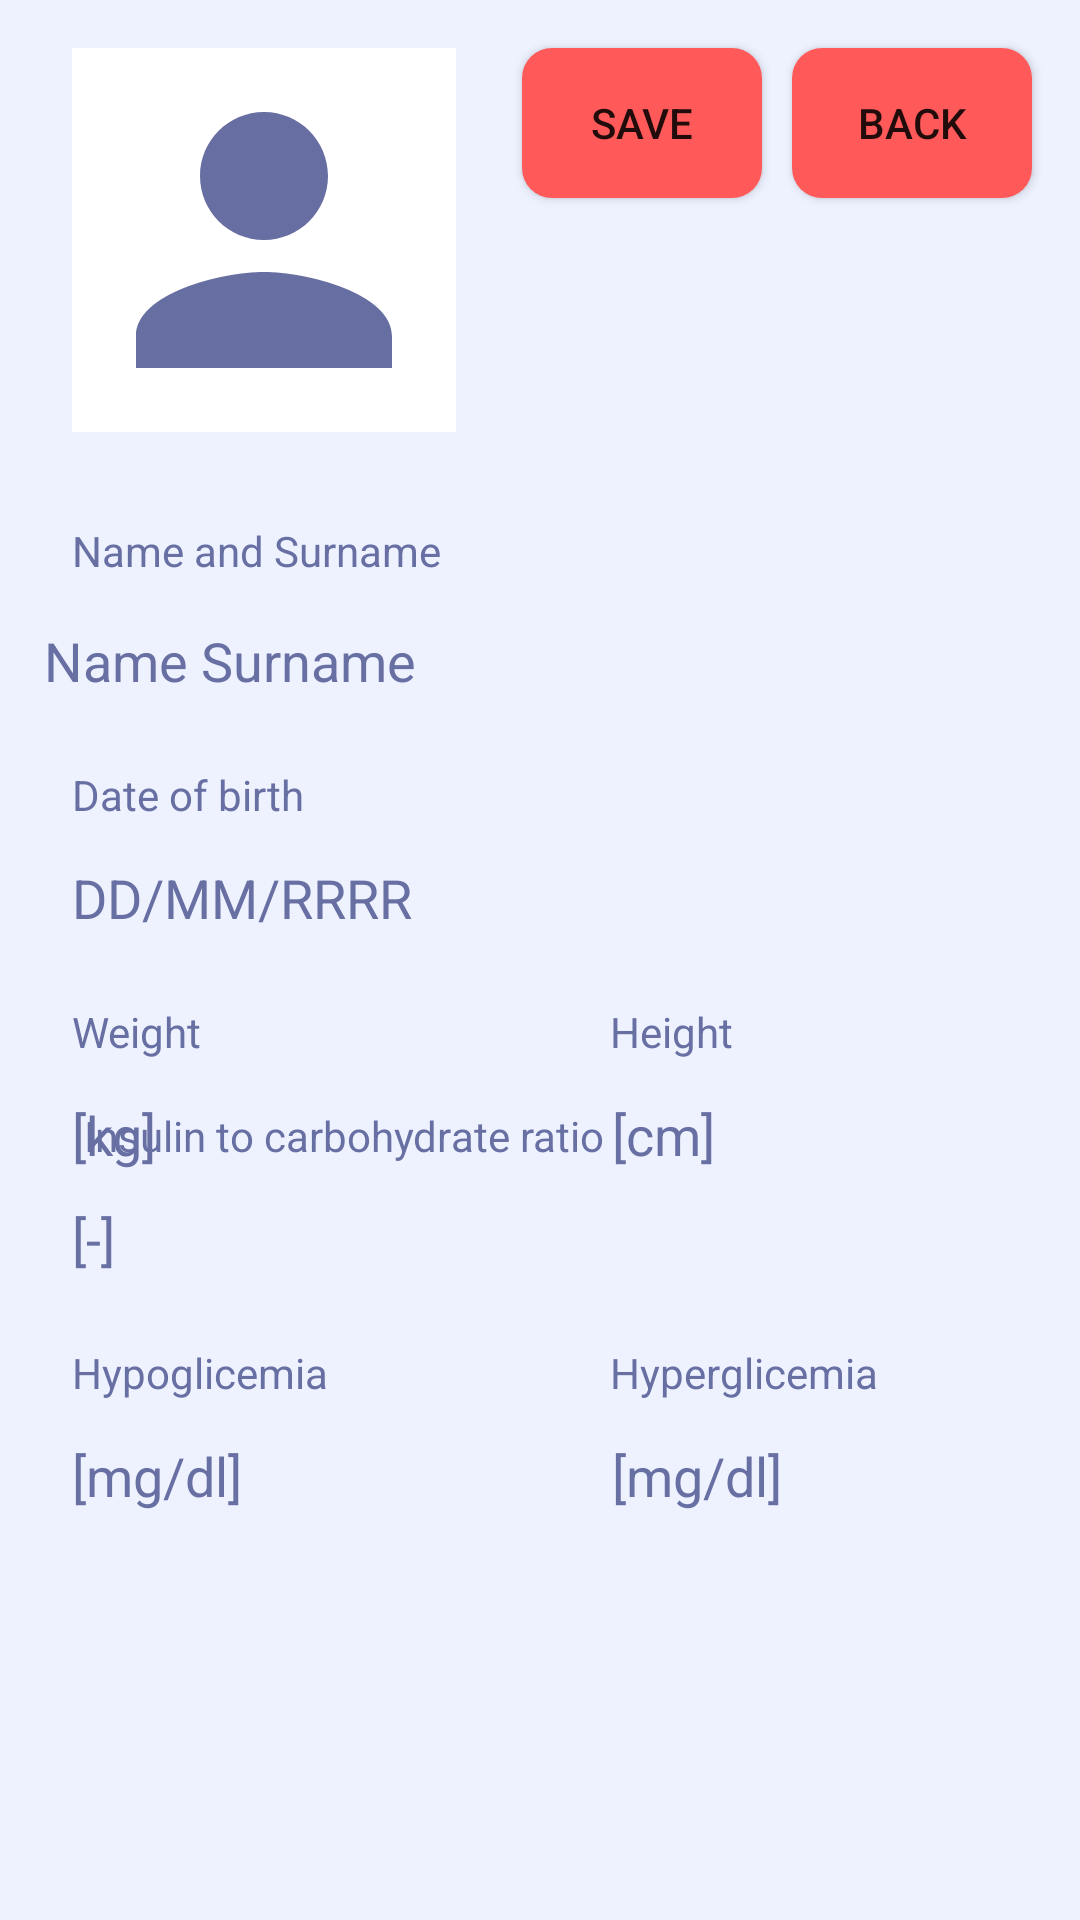

Screen size 1080×1920. Icon name, then its center in pixels as [x,y]:
person: [264,240]
